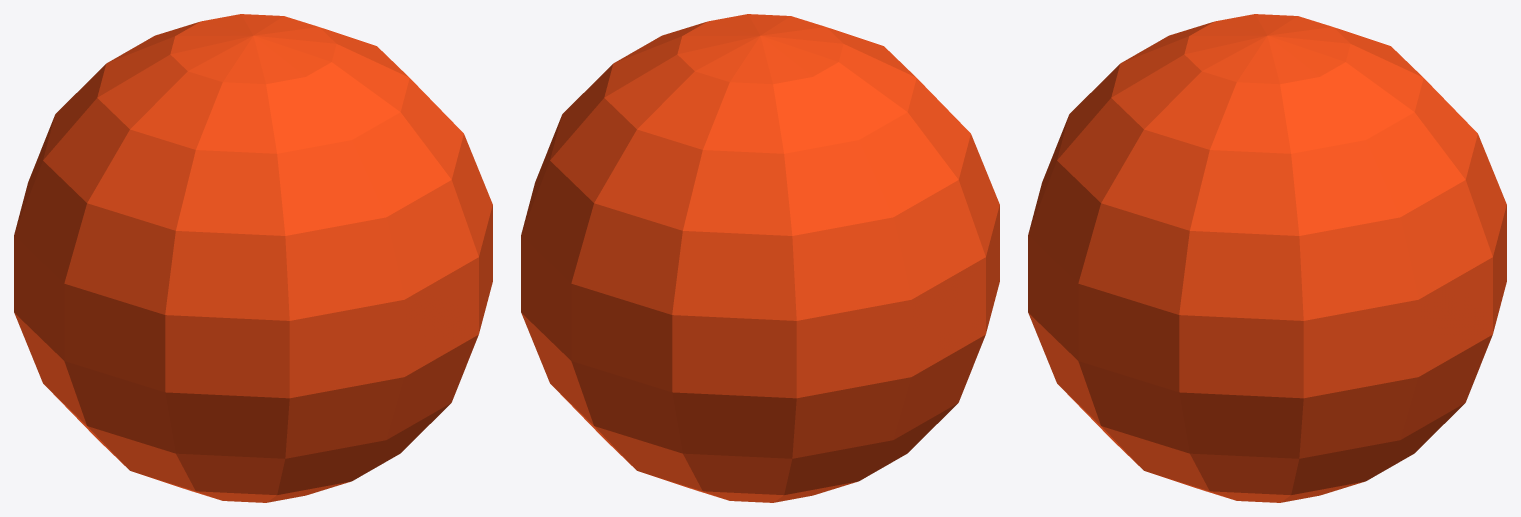
File: n5_group1376589167_lev5.001.glb
3 renders of one model, left to right at view 1: azimuth 30°, elevation 25°; view 2: azimuth 150°, elevation 25°; view 3: azimuth 270°, elevation 25°, orthographic.
Parts seen in each view (by area): view 1: n5_group1376589167_lev5.001; view 2: n5_group1376589167_lev5.001; view 3: n5_group1376589167_lev5.001.
Part boxes in pixels (x1,y1,x2,y2): n5_group1376589167_lev5.001: (14,14,492,502); n5_group1376589167_lev5.001: (521,14,999,502); n5_group1376589167_lev5.001: (1028,14,1506,502).
Bounding box in the file's own units: 2.76 × 2.84 × 2.76.
